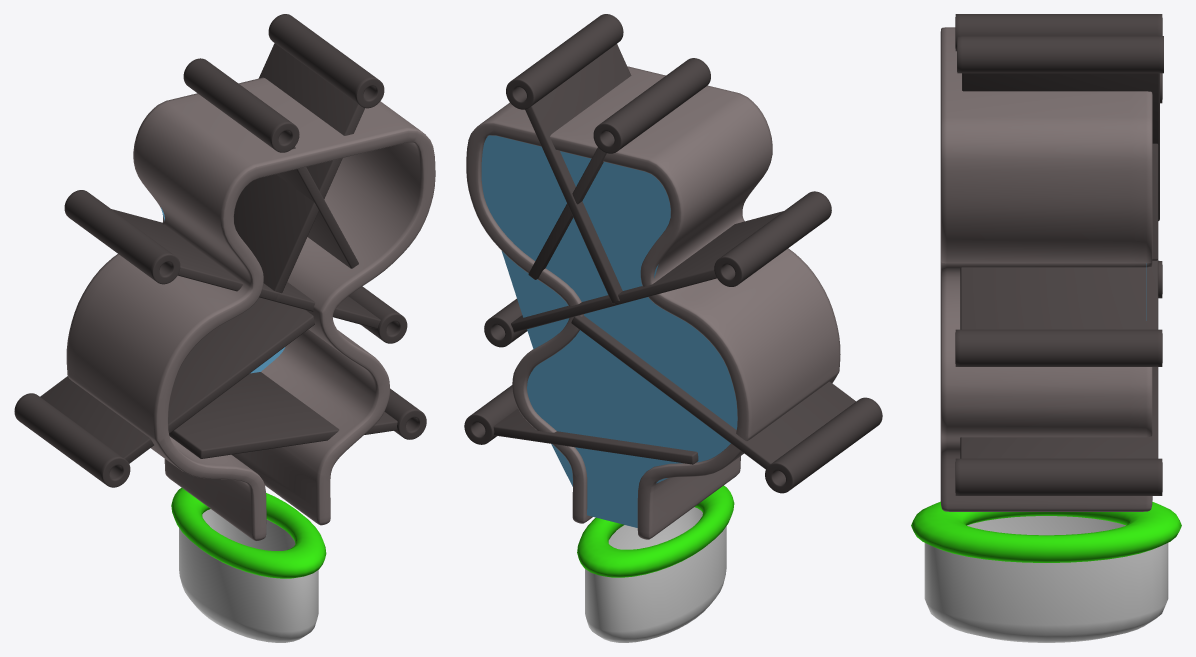
The picture shows the model from 3 angles, left to right: view 1: azimuth 30°, elevation 25°; view 2: azimuth 150°, elevation 25°; view 3: azimuth 270°, elevation 25°; orthographic projection. The views are drawn at different scales.
Parts seen in each view (by area): view 1: platorm, kab, pin2, pin6, pin1, pin4, pin5, pin3; view 2: platorm, kab, pin2, pin6, pin4, pin5, pin1, pin3; view 3: platorm, kab, pin3, pin1, pin6, pin5.
Boxes of the visible parts, box(x1,y1,x2,y2) form: platorm: box(66, 77, 435, 541); kab: box(171, 487, 326, 642); pin2: box(14, 297, 314, 487); pin6: box(234, 14, 384, 293); pin1: box(169, 372, 426, 458); pin4: box(64, 190, 280, 301); pin5: box(183, 58, 358, 268); pin3: box(275, 282, 407, 343); platorm: box(466, 66, 840, 539); kab: box(577, 485, 734, 642); pin2: box(571, 315, 882, 493); pin6: box(506, 14, 631, 303); pin4: box(615, 191, 831, 304); pin5: box(528, 58, 710, 279); pin1: box(464, 385, 698, 464); pin3: box(484, 295, 617, 347); platorm: box(940, 27, 1152, 511); kab: box(911, 501, 1181, 642); pin3: box(955, 259, 1162, 366); pin1: box(955, 367, 1162, 495); pin6: box(957, 36, 1163, 220); pin5: box(955, 14, 1162, 260).
Size of the model in its own units: 2.56 by 4.07 by 1.57.
